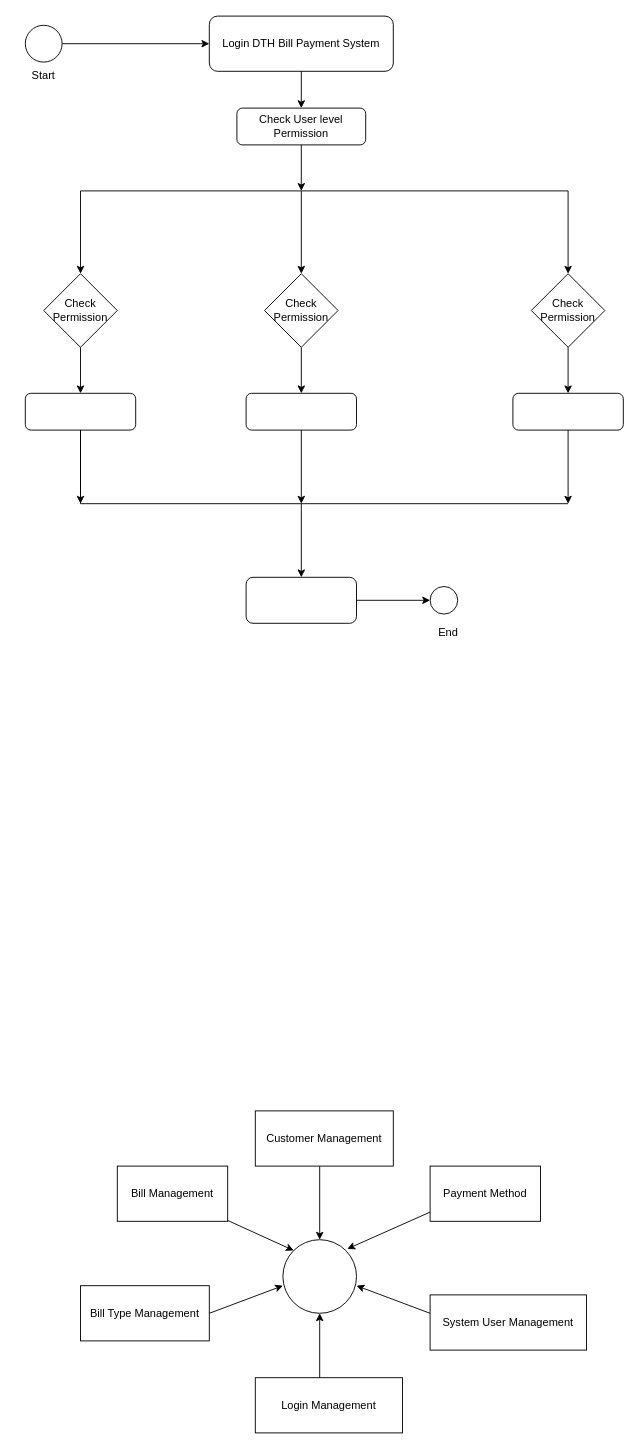
Some shapes in this 639 by 1449 pixel diagram are drawn without their labels. The shapes that lost their labels are listed below. From the top down, each one's centre as x and y in pixels, then its label:
the point at 80,411: Manage Bills
the point at 300,411: Manage Records
the point at 567,411: Manage Customer
the point at 300,599: Logout From The System
the point at 319,1276: DTH Billing System
